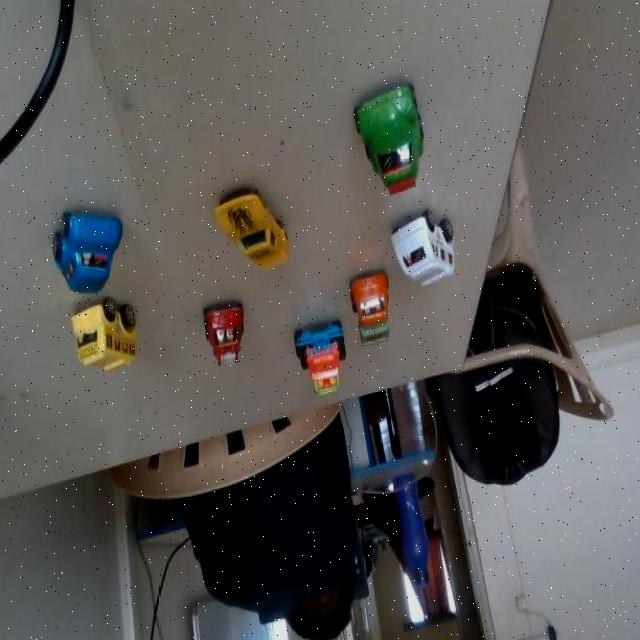car: (318, 20, 494, 229), (372, 180, 483, 316), (198, 168, 319, 280), (53, 198, 130, 299), (76, 286, 153, 373), (343, 256, 405, 364), (282, 320, 352, 409), (198, 287, 260, 377)
